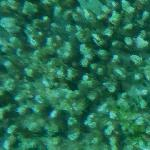dead: (1, 3, 147, 146)
